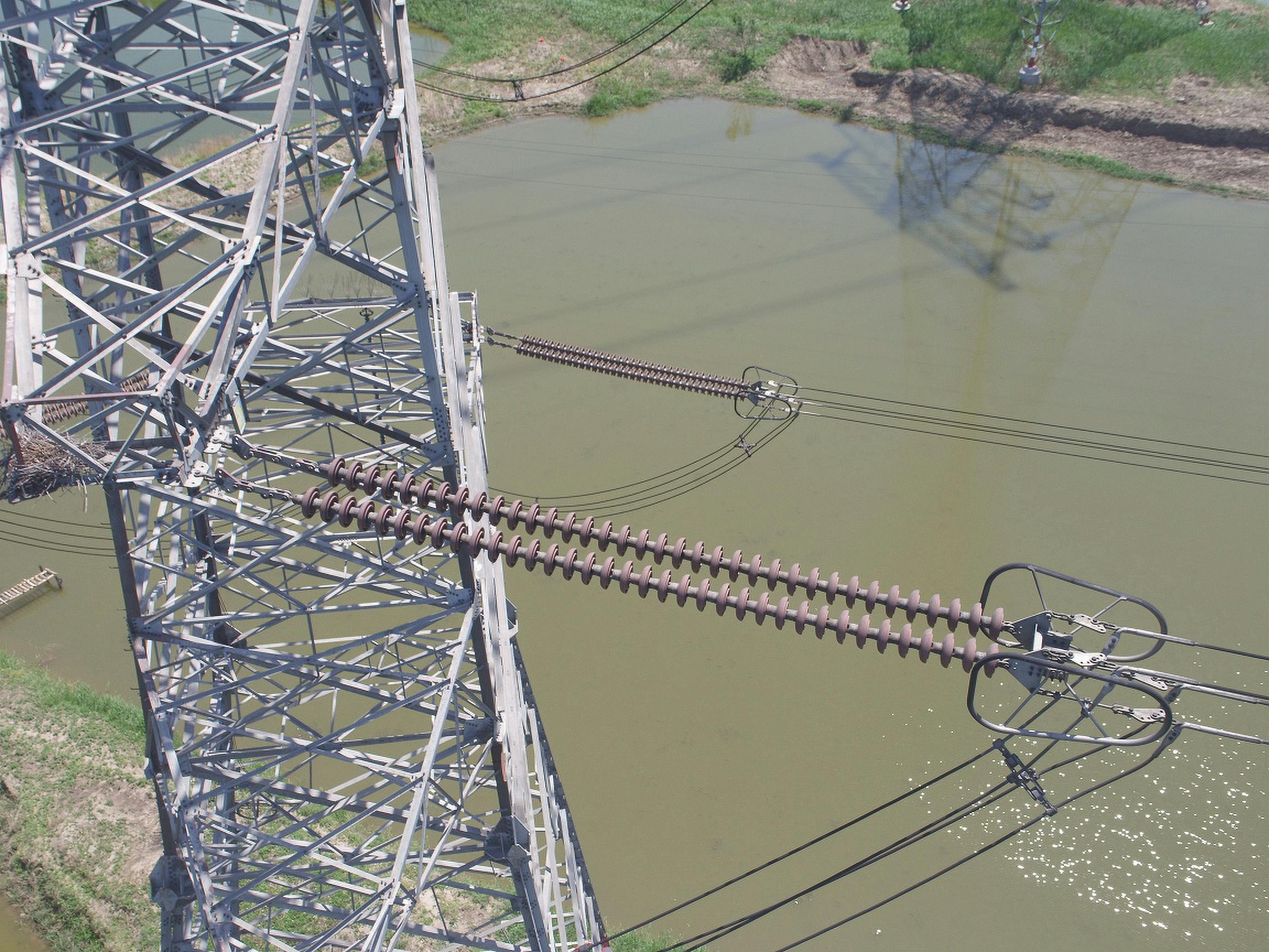insulator: (296, 455, 1010, 681), (514, 331, 752, 403), (38, 366, 152, 428)
